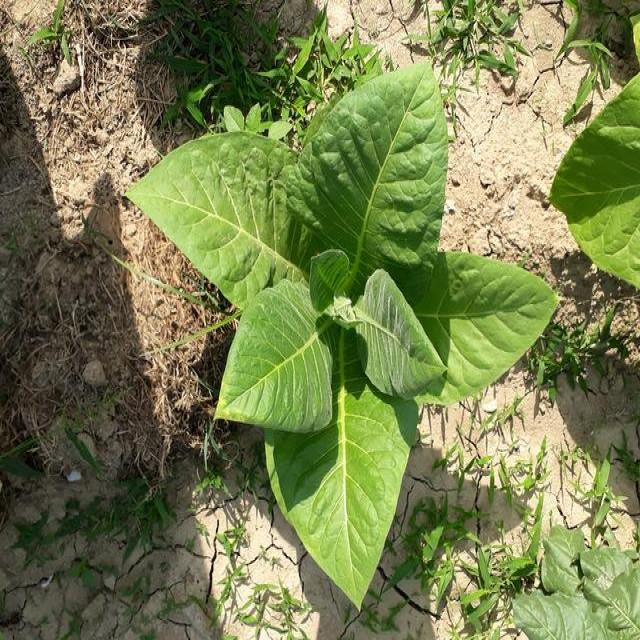crop: (133, 63, 548, 574), (554, 61, 640, 296)
